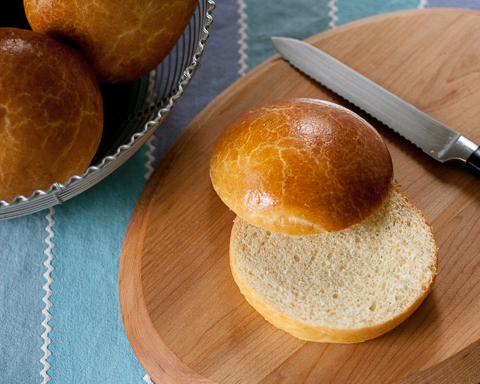hamburger_buns: (205, 101, 426, 363)
